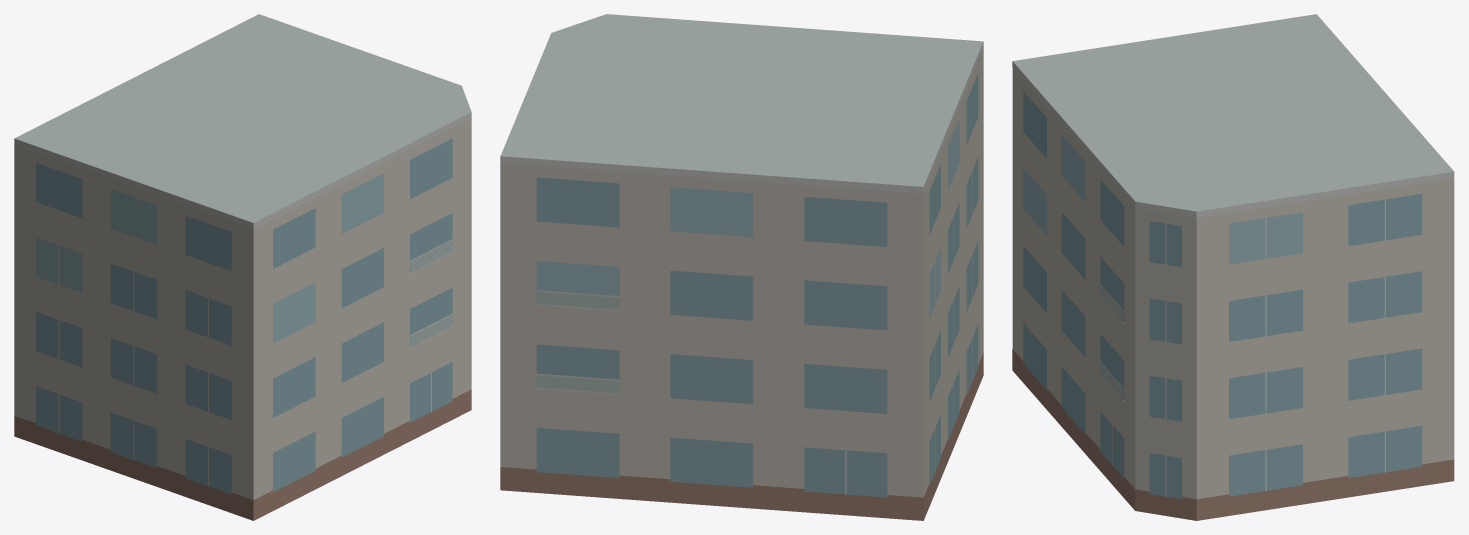
Rendered from survey-upis-32863995.glb.
3 renders of one model, left to right at view 1: azimuth 30°, elevation 25°; view 2: azimuth 150°, elevation 25°; view 3: azimuth 270°, elevation 25°, orthographic. The views are drawn at different scales.
Visible parts, largest first — view 1: survey-upis-32863995.tmp; view 2: survey-upis-32863995.tmp; view 3: survey-upis-32863995.tmp.
Boxes of the visible parts, bbox=[...] form: survey-upis-32863995.tmp: bbox=[14, 14, 471, 520]; survey-upis-32863995.tmp: bbox=[500, 14, 983, 520]; survey-upis-32863995.tmp: bbox=[1012, 14, 1454, 520].
Bounding box in the file's own units: 16.14 × 11.78 × 15.26.
